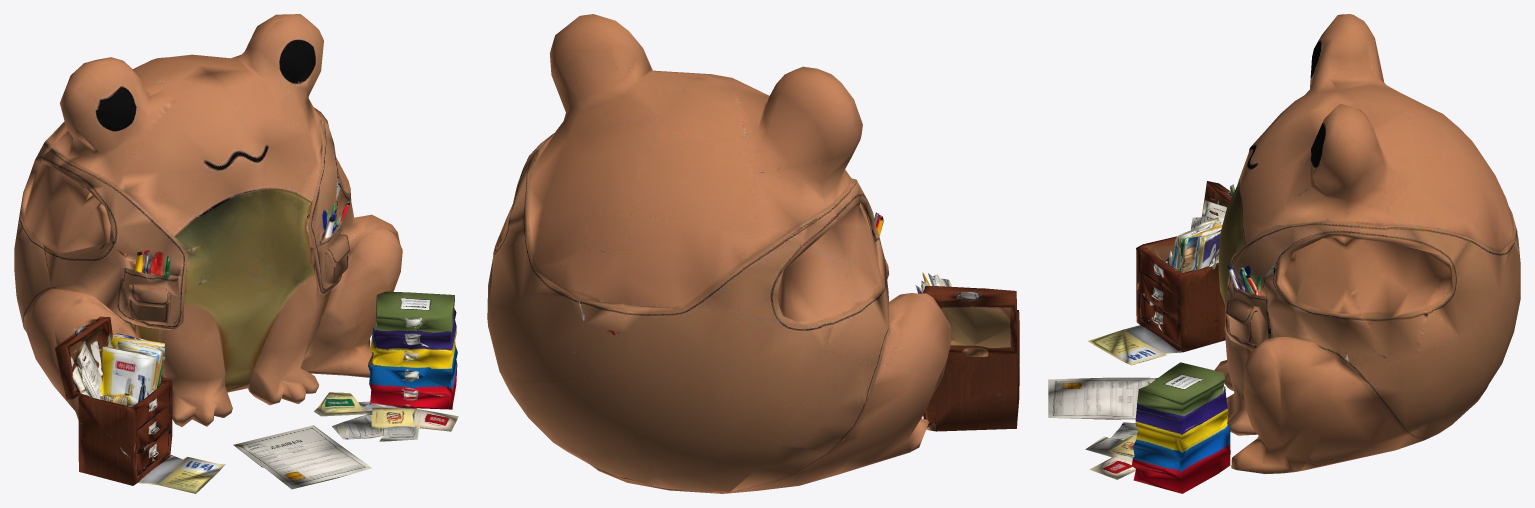
File: archiviste.glb
3 views of the same model, side by side, from view 1: azimuth 30°, elevation 25°; view 2: azimuth 150°, elevation 25°; view 3: azimuth 270°, elevation 25° (orthographic). The views are drawn at different scales.
Visible parts, largest first — view 1: mesh_node; view 2: mesh_node; view 3: mesh_node.
Part boxes in pixels (x1=…): mesh_node: x1=14, y1=14, x2=458, y2=493; mesh_node: x1=487, y1=14, x2=1019, y2=493; mesh_node: x1=1048, y1=14, x2=1520, y2=493.
Bounding box in the file's own units: 1.81 × 1.51 × 1.9.
Materials: 1 (1 with a texture image).
